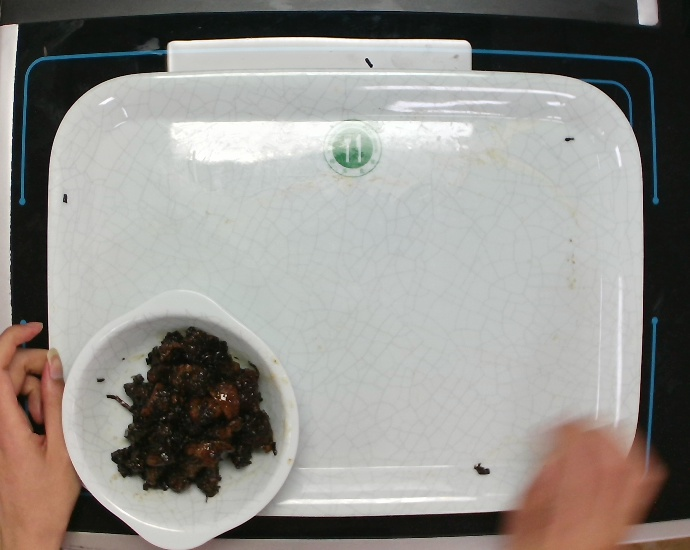JYsf-Shuang_Er_Wan: (58, 281, 300, 550)
